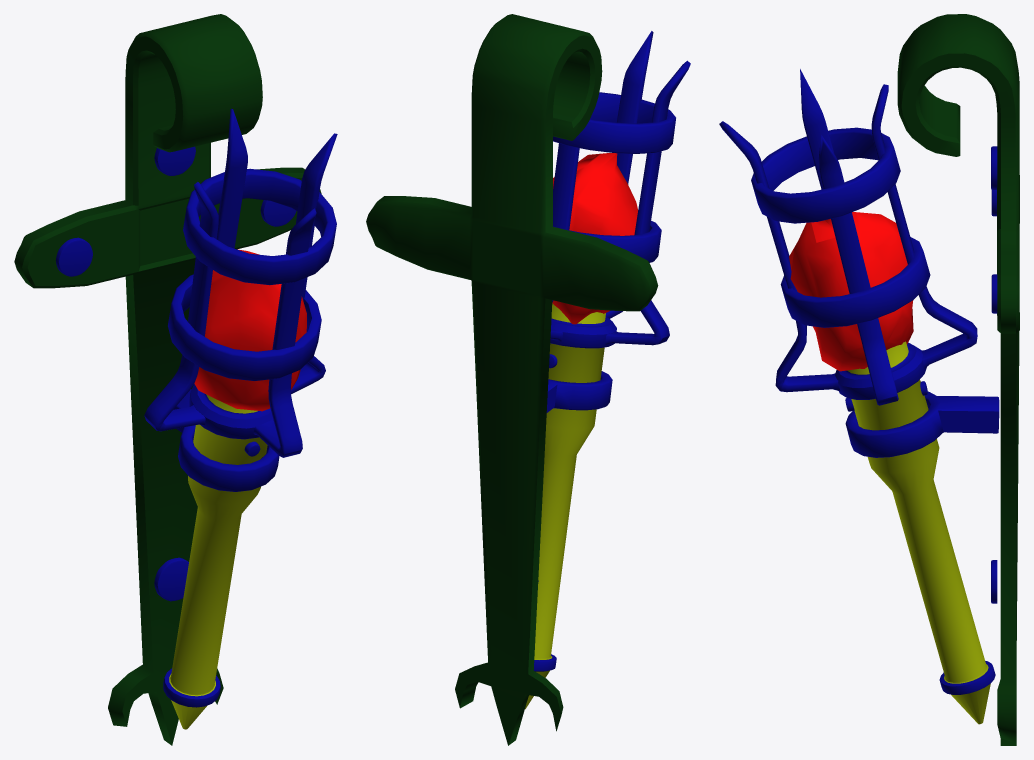
3 renders of one model, left to right at view 1: azimuth 30°, elevation 25°; view 2: azimuth 150°, elevation 25°; view 3: azimuth 270°, elevation 25°, orthographic. The views are drawn at different scales.
Visible parts, largest first — view 1: torch_lp (×4); view 2: torch_lp (×4); view 3: torch_lp (×4).
Boxes of the visible parts, box(x1,y1,x2,y2) form: torch_lp (×4): box(14, 14, 337, 745); torch_lp (×4): box(366, 14, 690, 745); torch_lp (×4): box(719, 14, 1019, 745).
Bounding box in the file's own units: 0.8542 × 2 × 0.7627.
